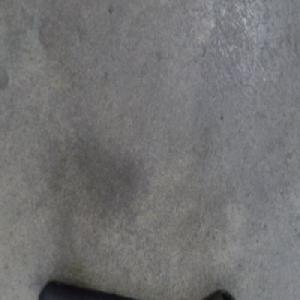AdjustableWrench: (40, 274, 235, 300)
